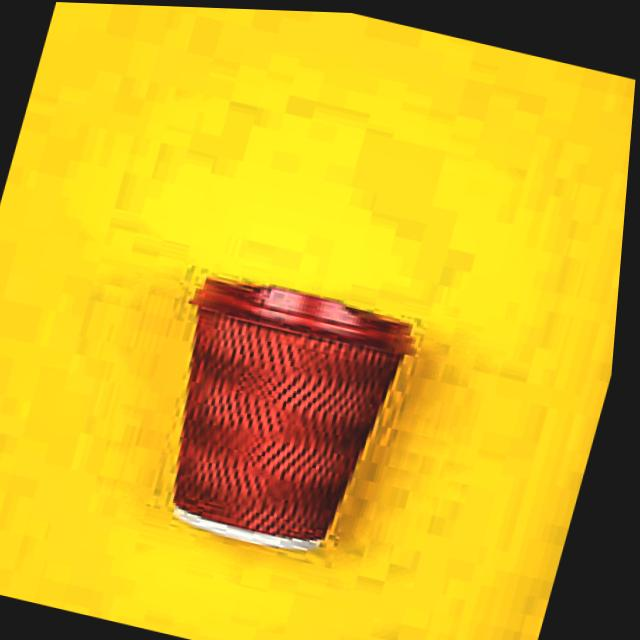Cup: (134, 279, 441, 575)
